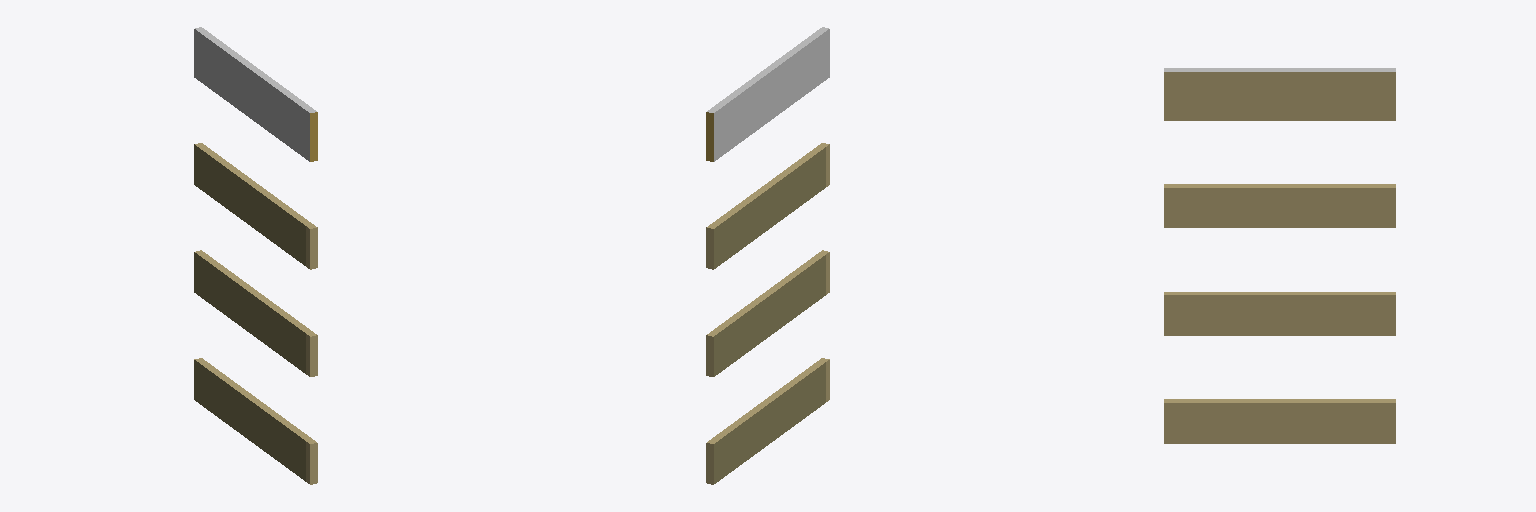
File: balcon_derecho_2.obj
3 views of the same model, side by side, from view 1: azimuth 30°, elevation 25°; view 2: azimuth 150°, elevation 25°; view 3: azimuth 270°, elevation 25° (orthographic).
Visible parts, largest first — view 1: TECHO_4_Cube.033, PISO4.001_Cube.002, PISO4.000_Cube.000, PISO4.002_Cube.001; view 2: TECHO_4_Cube.033, PISO4.001_Cube.002, PISO4.000_Cube.000, PISO4.002_Cube.001; view 3: TECHO_4_Cube.033, PISO4.000_Cube.000, PISO4.001_Cube.002, PISO4.002_Cube.001.
Boxes of the visible parts, box(x1,y1,x2,y2) form: TECHO_4_Cube.033: box(194, 27, 317, 161); PISO4.001_Cube.002: box(194, 250, 317, 376); PISO4.000_Cube.000: box(194, 358, 317, 484); PISO4.002_Cube.001: box(194, 143, 317, 269); TECHO_4_Cube.033: box(706, 27, 829, 161); PISO4.001_Cube.002: box(706, 250, 829, 376); PISO4.000_Cube.000: box(706, 358, 829, 484); PISO4.002_Cube.001: box(706, 143, 829, 269); TECHO_4_Cube.033: box(1164, 68, 1395, 120); PISO4.000_Cube.000: box(1164, 399, 1395, 443); PISO4.001_Cube.002: box(1164, 292, 1395, 335); PISO4.002_Cube.001: box(1164, 184, 1395, 227).
Bounding box in the file's own units: 0.3858 × 19 × 10.74.